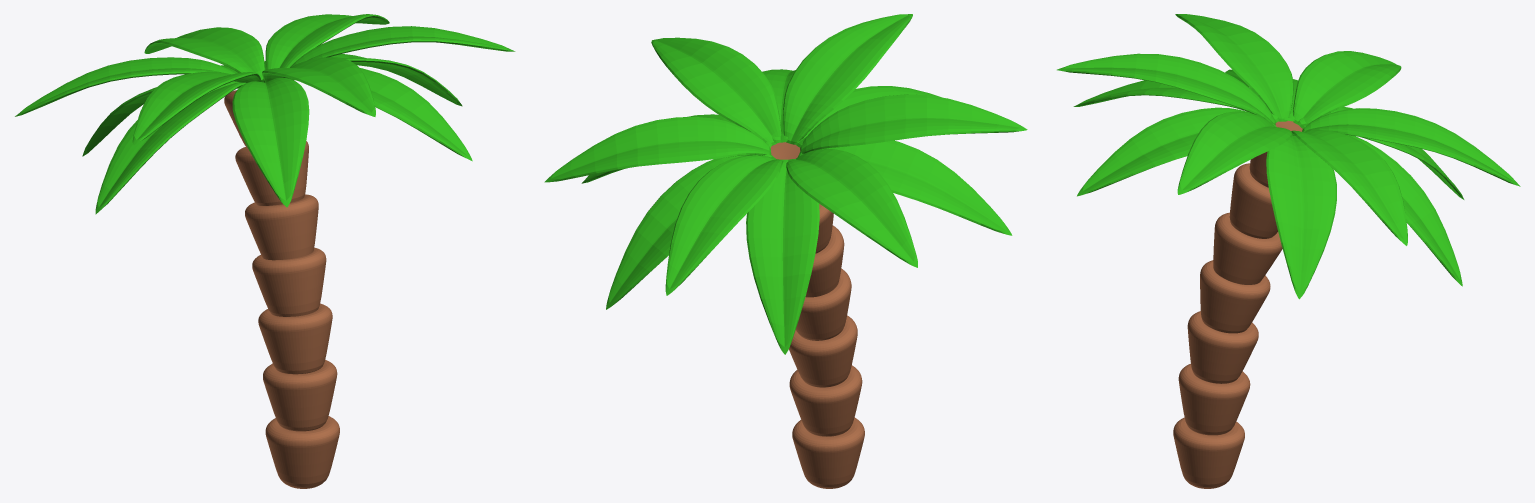
File: Palmera1_15.fbx
3 views of the same model, side by side, from view 1: azimuth 30°, elevation 25°; view 2: azimuth 150°, elevation 25°; view 3: azimuth 270°, elevation 25° (orthographic). The views are drawn at different scales.
Visible parts, largest first — view 1: Cylinder.030; view 2: Cylinder.030; view 3: Cylinder.030.
Part boxes in pixels (x1,y1,x2,y2): Cylinder.030: (15, 14, 515, 488); Cylinder.030: (544, 14, 1027, 488); Cylinder.030: (1057, 14, 1520, 488).
Bounding box in the file's own units: 6686 × 6845 × 6892.
